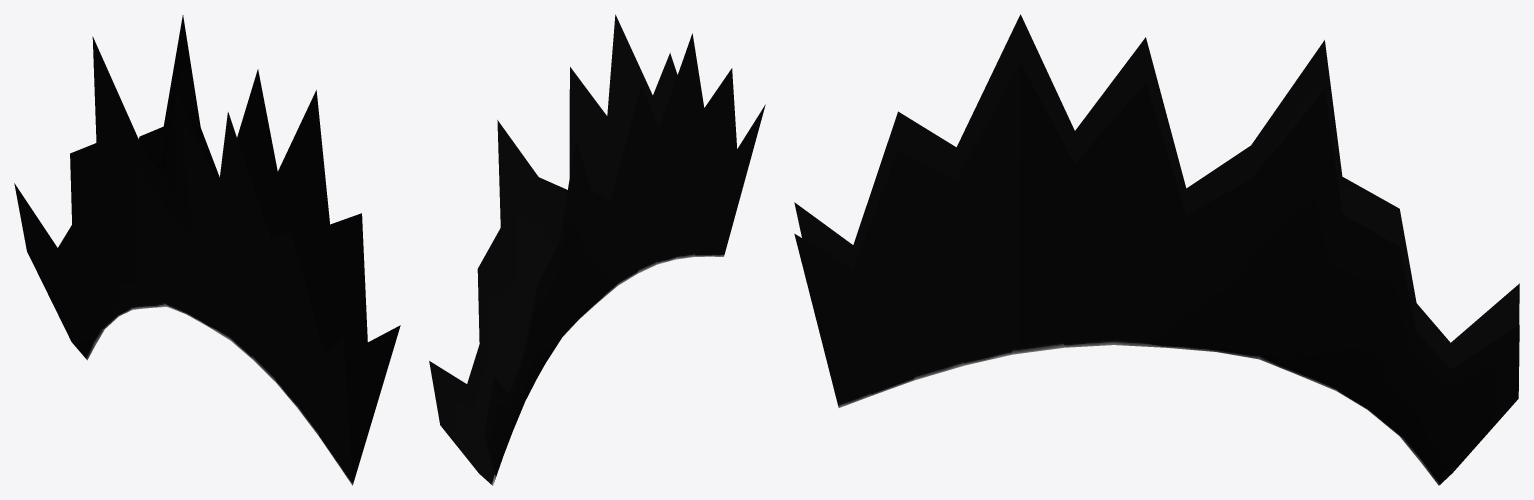
The model's file is p_mesh_drillbot_schythe_anticipation01.fbx.
3 renders of one model, left to right at view 1: azimuth 30°, elevation 25°; view 2: azimuth 150°, elevation 25°; view 3: azimuth 270°, elevation 25°, orthographic. The views are drawn at different scales.
Parts seen in each view (by area): view 1: Glow; view 2: Glow; view 3: Glow.
Part boxes in pixels (x1=…): Glow: x1=14, y1=15, x2=400, y2=485; Glow: x1=429, y1=14, x2=765, y2=485; Glow: x1=794, y1=14, x2=1519, y2=485.
Size of the model in its own units: 13.86 by 58.02 by 85.24.
Materials: 1 (1 with a texture image).
